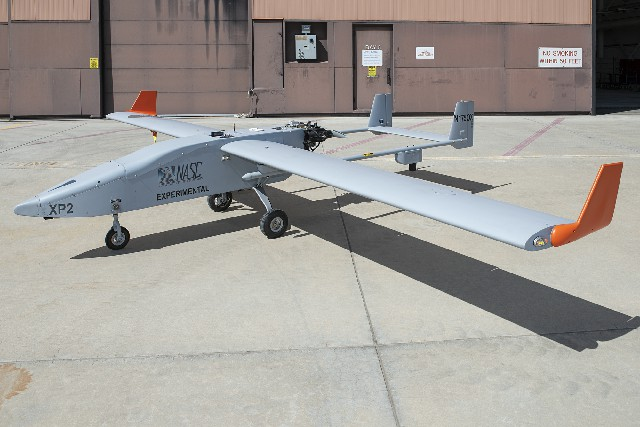maybay_khongnguoilai: (36, 86, 620, 259)
